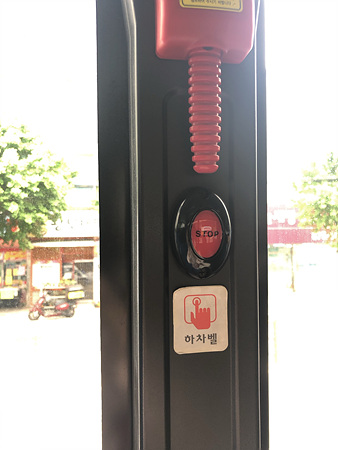bell: (174, 190, 231, 280)
